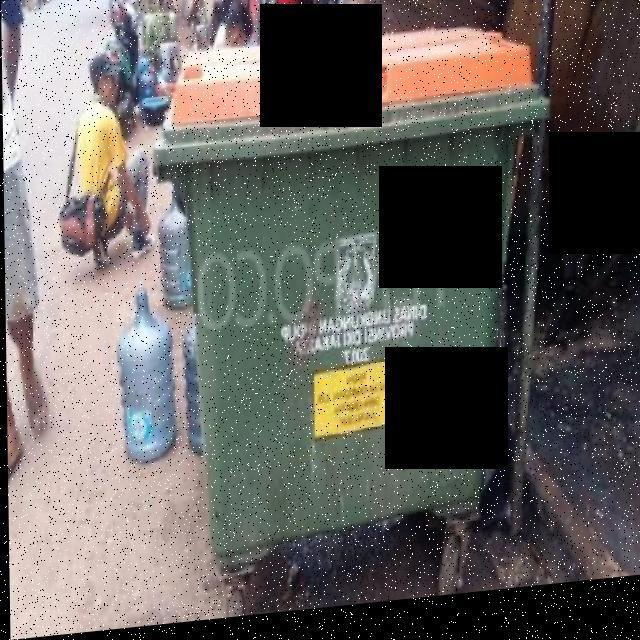bin: (147, 19, 564, 622)
